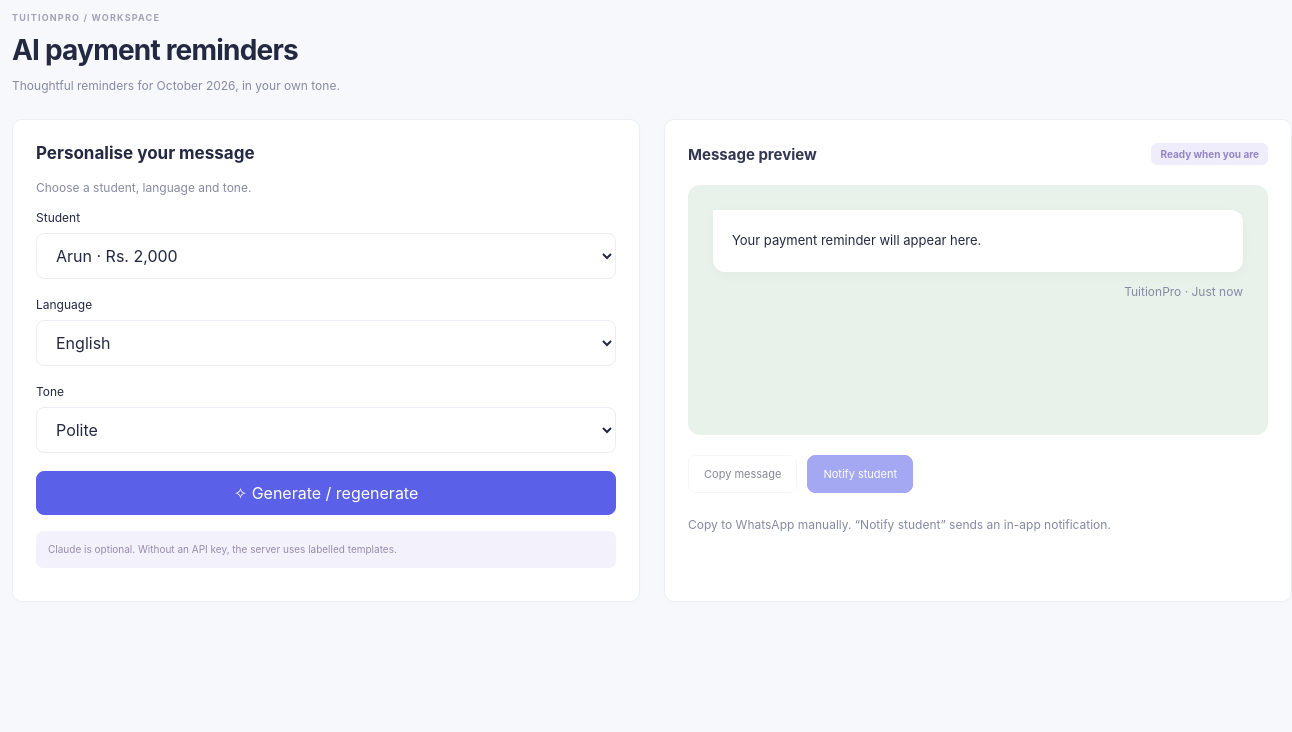
Test: TuitionPro workflows › invalidates a generated reminder when the language changes
Click the button "✧ Generate / regenerate".
click(326, 493)  # box [36,471,616,515]
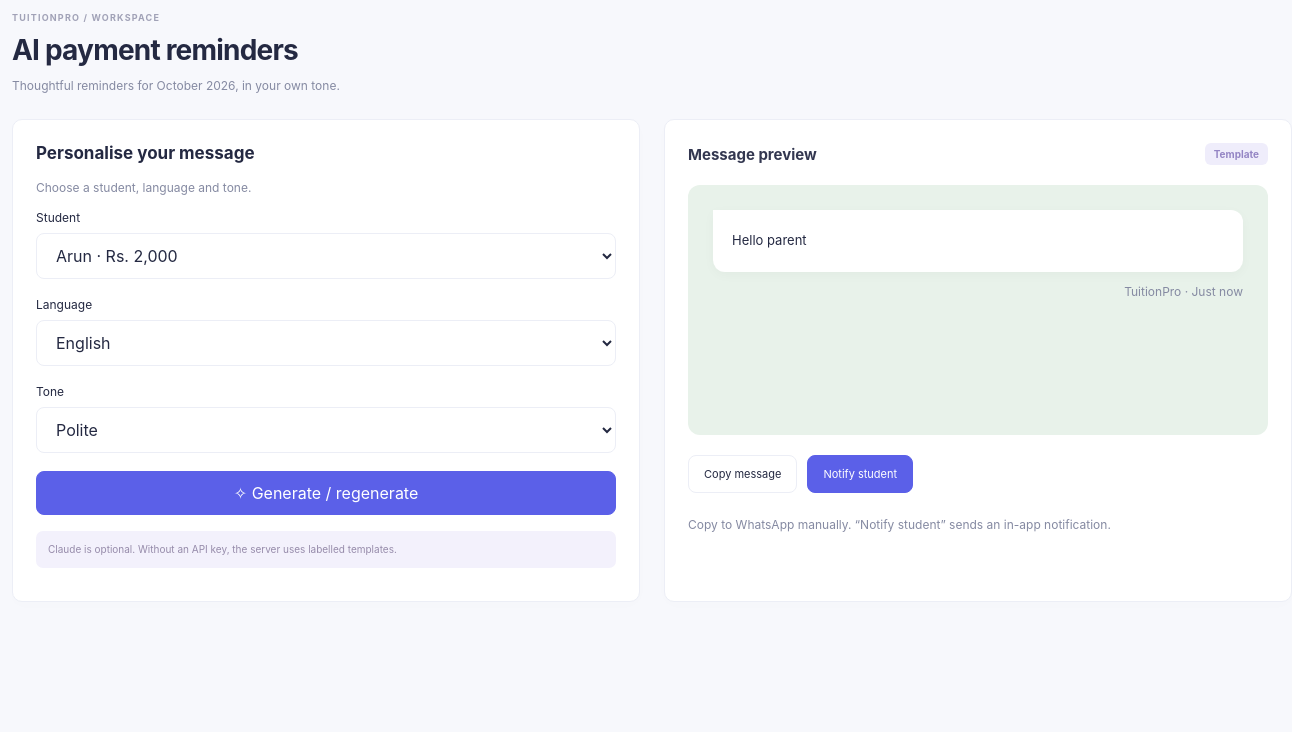
Expected: the text "Hello parent" is shown, [713,210,1243,272]
Expected: the button "Notify student" is enabled, [807,455,913,493]
Select "Tamil" in the dropdown labelled "Language" at (326, 343), box [36,320,616,366]
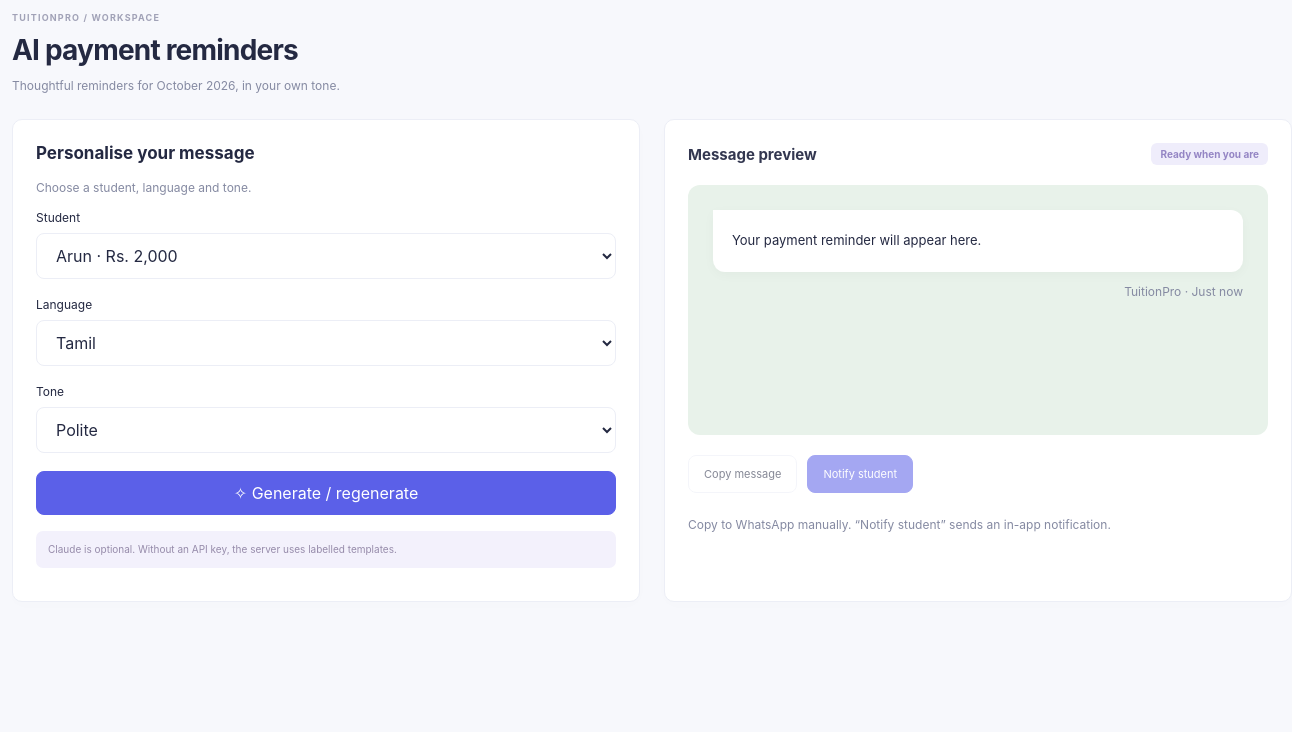
Expected: the button "Notify student" is disabled, [807,455,913,493]
